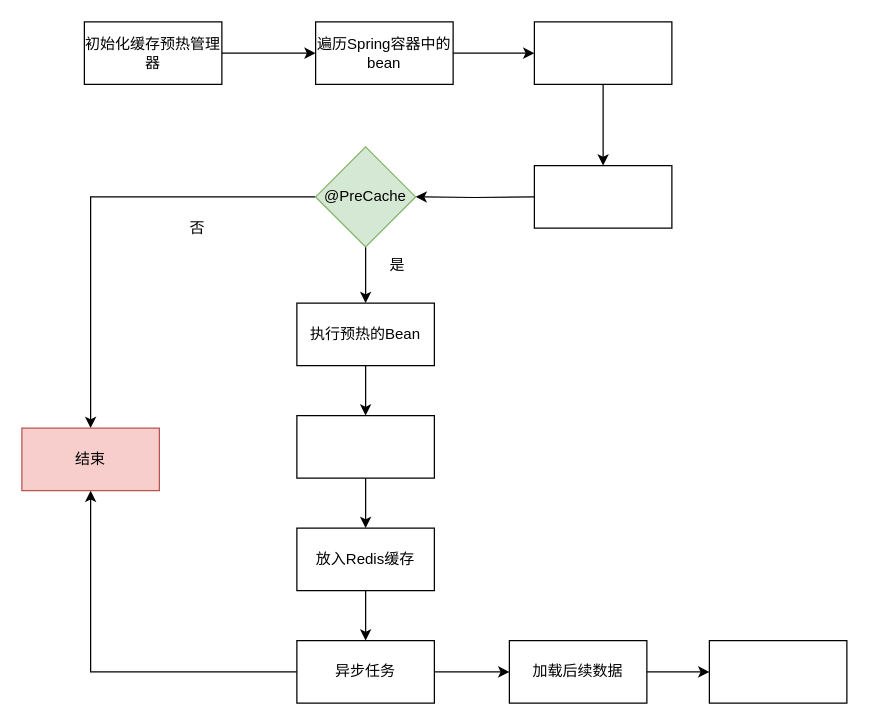
Image size: 869x725. Some labels were removed from this diagram. Each missing label, with the box of its shape:
得到注解方法集合: (533, 21, 672, 84)
放入Redis: (708, 639, 847, 703)
根据配置，分页加载第一页数据: (296, 414, 434, 478)
获取对应的代理对象: (533, 164, 672, 228)
